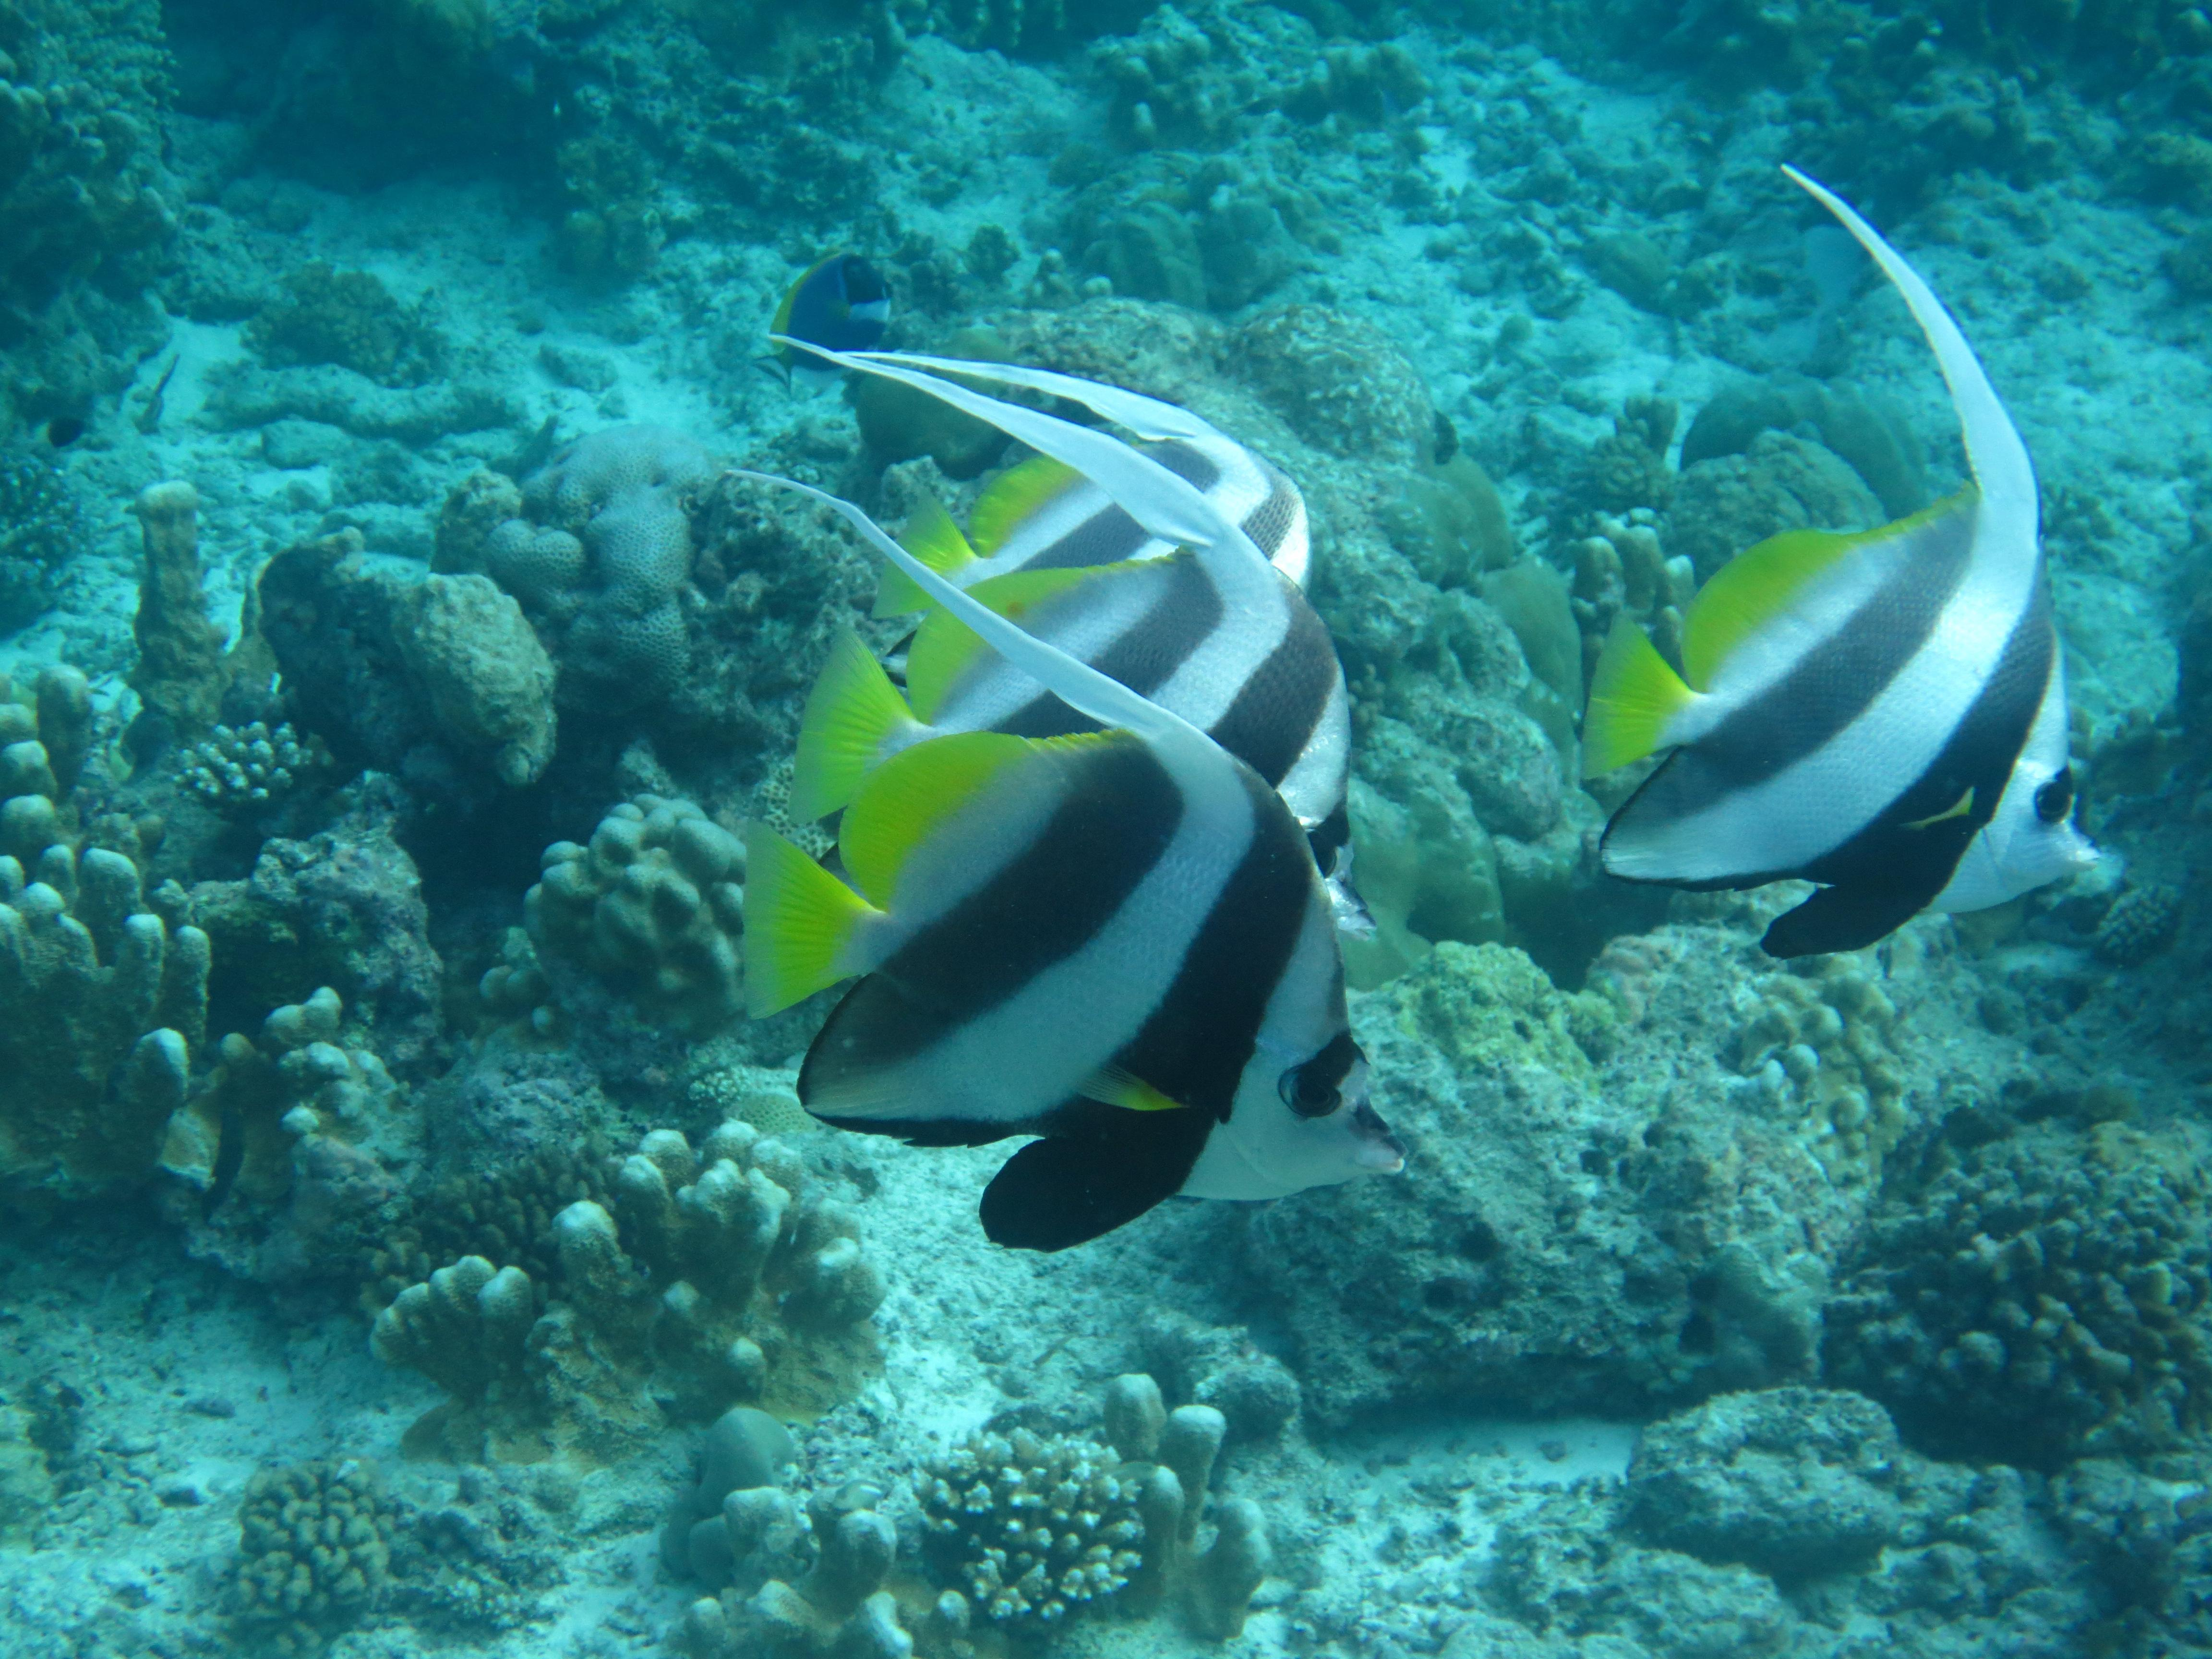Heniochus diphreutes: (691, 432, 1414, 1269), (1566, 136, 2137, 965)
